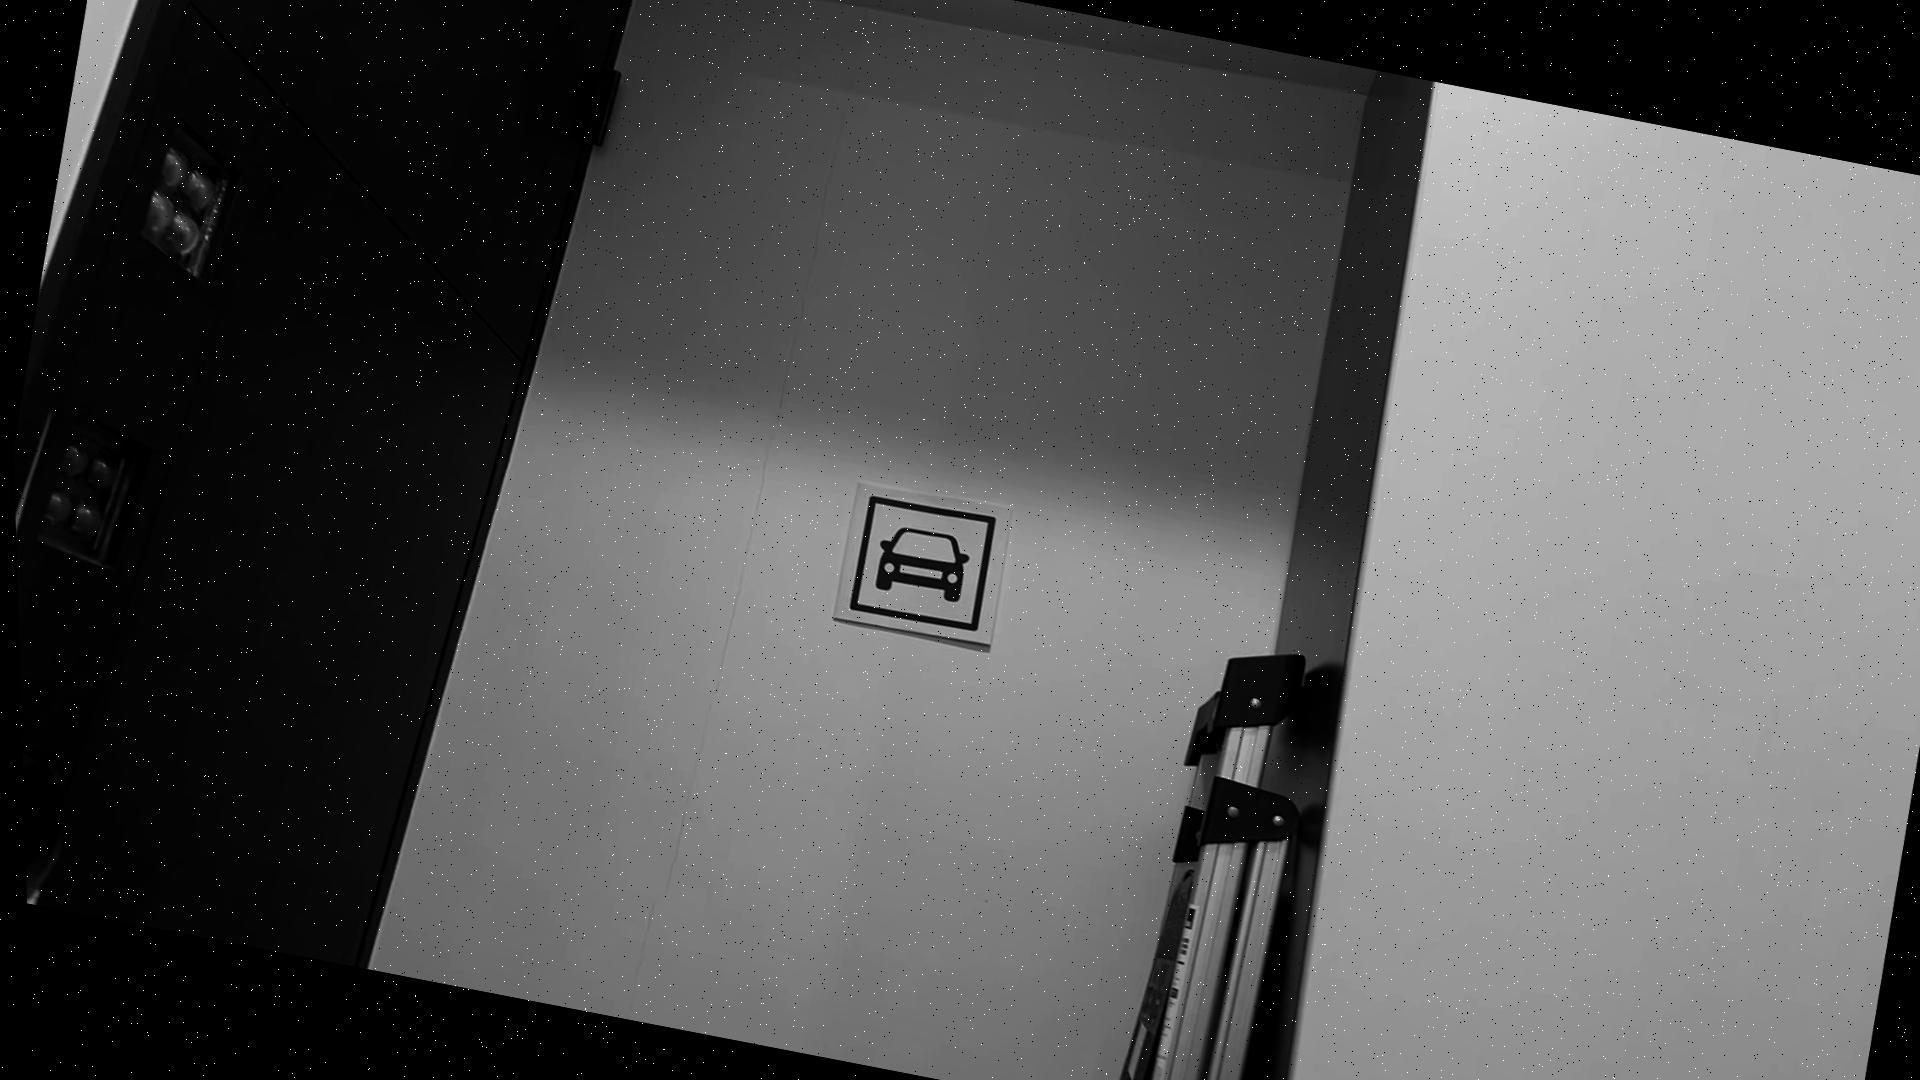car_img: (840, 491, 998, 636)
